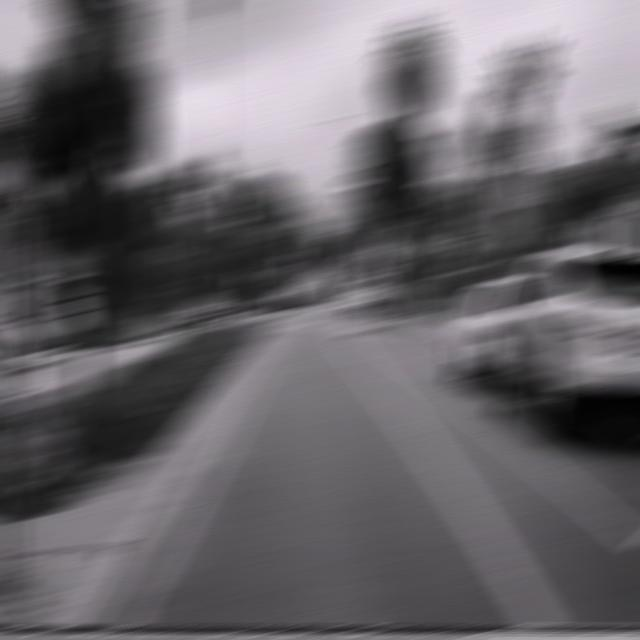pedestrianCrossing: (368, 238, 398, 267)
yield: (354, 247, 379, 263), (279, 252, 303, 266)
